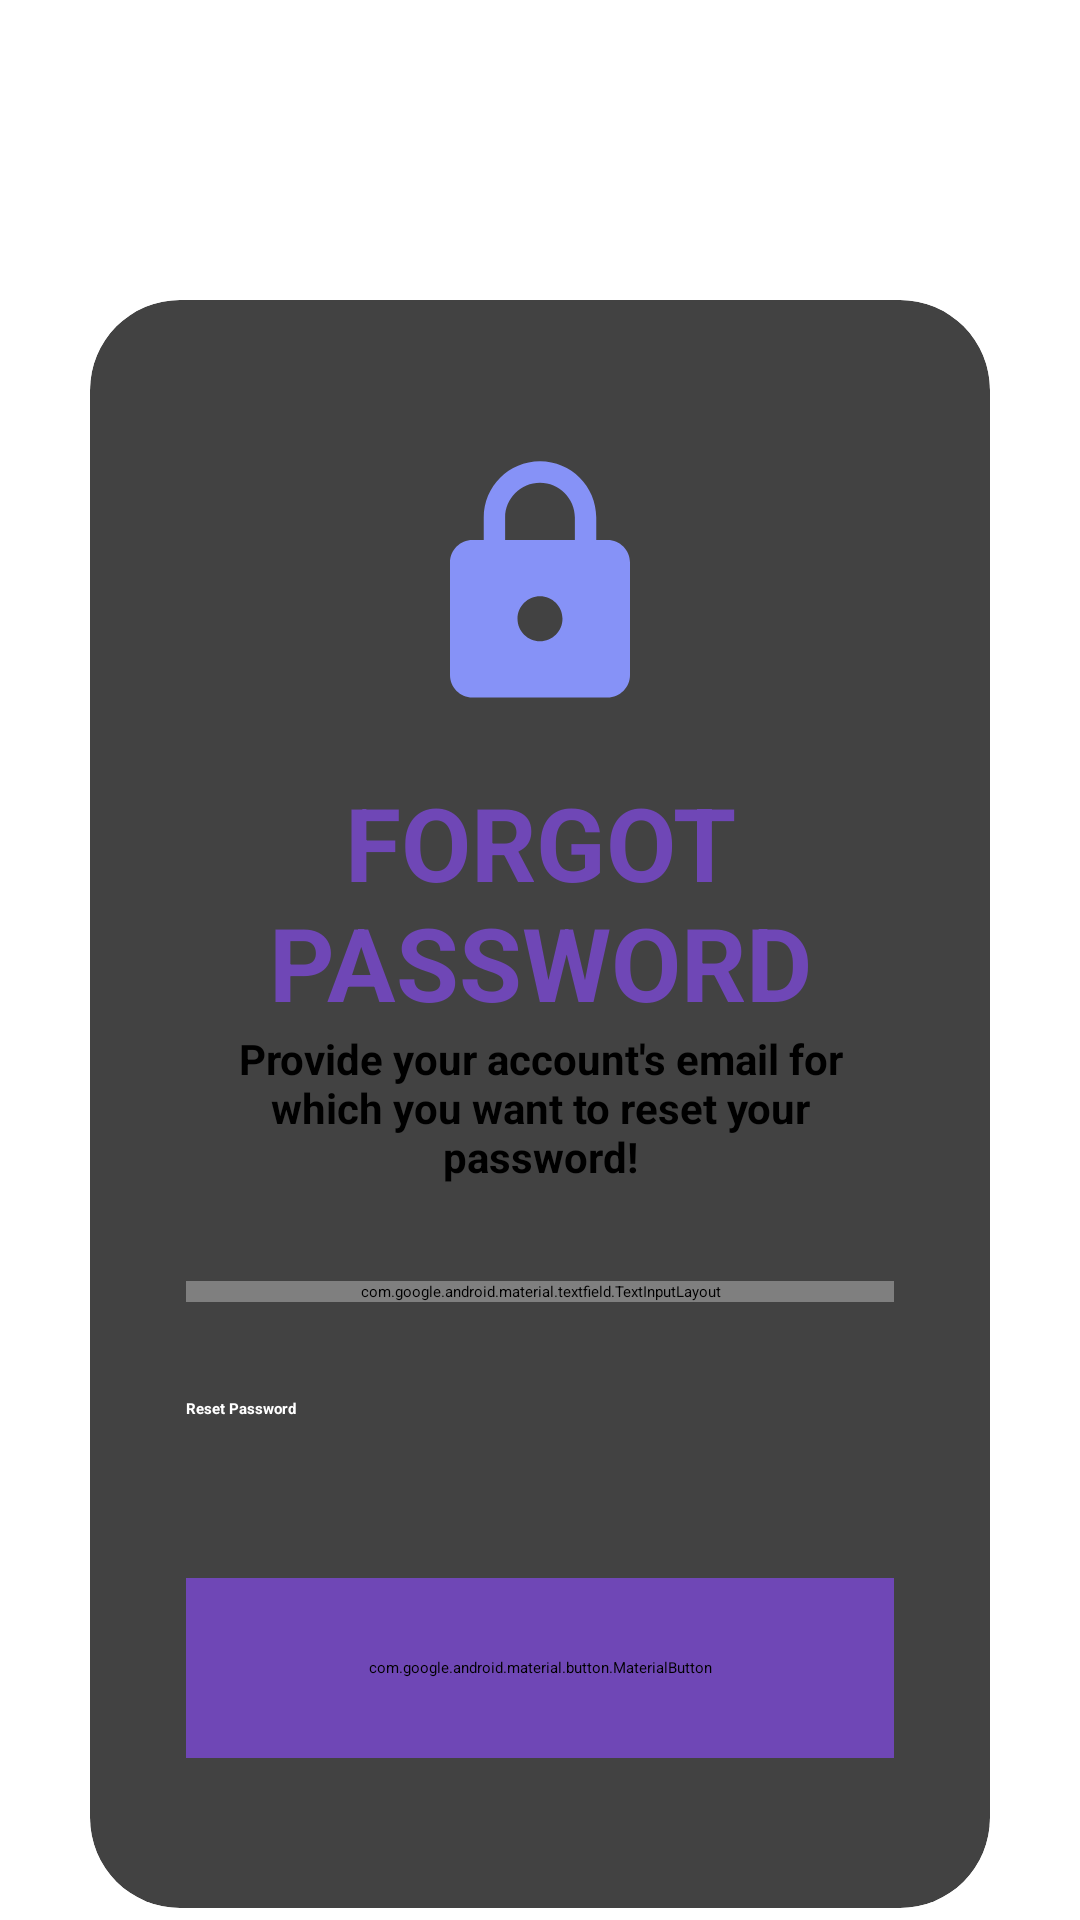

Where to tap for icons on this 1080*1920 app screen, as (x=x, y=y):
lock: (x=540, y=579)
